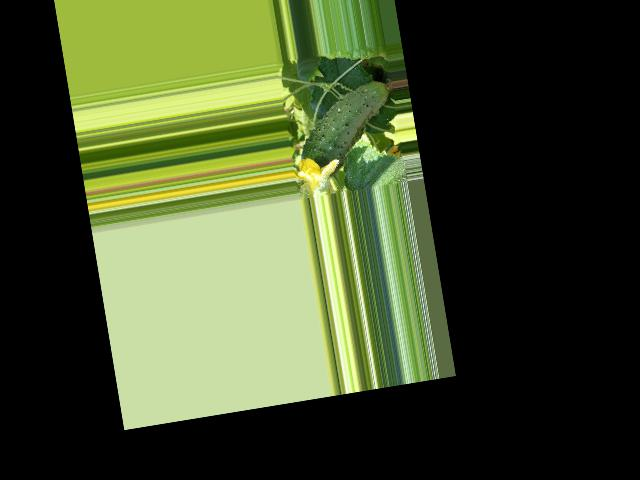cucumber: (291, 77, 405, 180)
